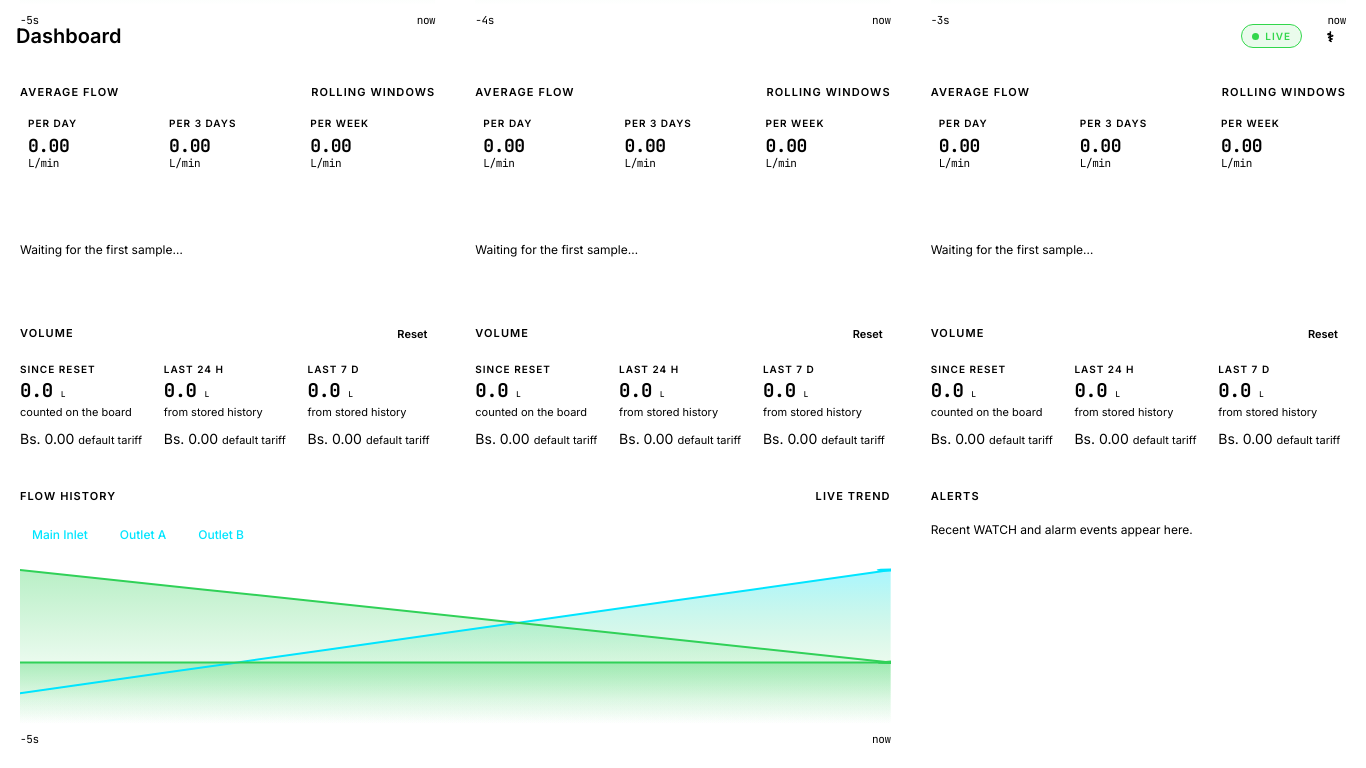
Test: Main_Chart channel selection is an exhaustive 8-subset multi-select (Requirement 3.9) › the empty subset draws no series and shows the "no channels" placeholder
(page scrolled)
What coordinates should you click on to do the following:
click the button with class "chip" showing "Main Inlet"
I would click on:
 (60, 534)
Its box is [20, 521, 100, 548].
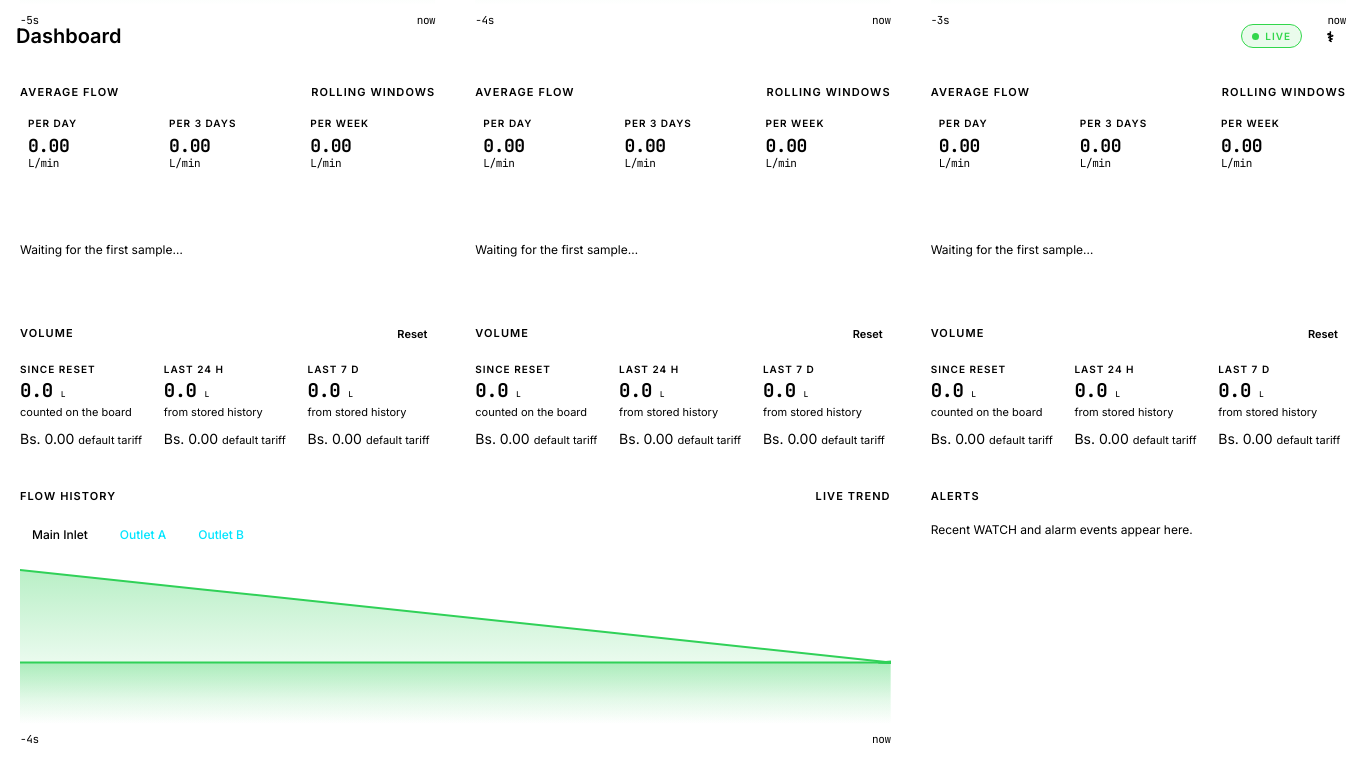
What coordinates should you click on to do the following:
click the button with class "chip" showing "Outlet A"
I would click on:
 (143, 534)
Its box is [108, 521, 178, 548].
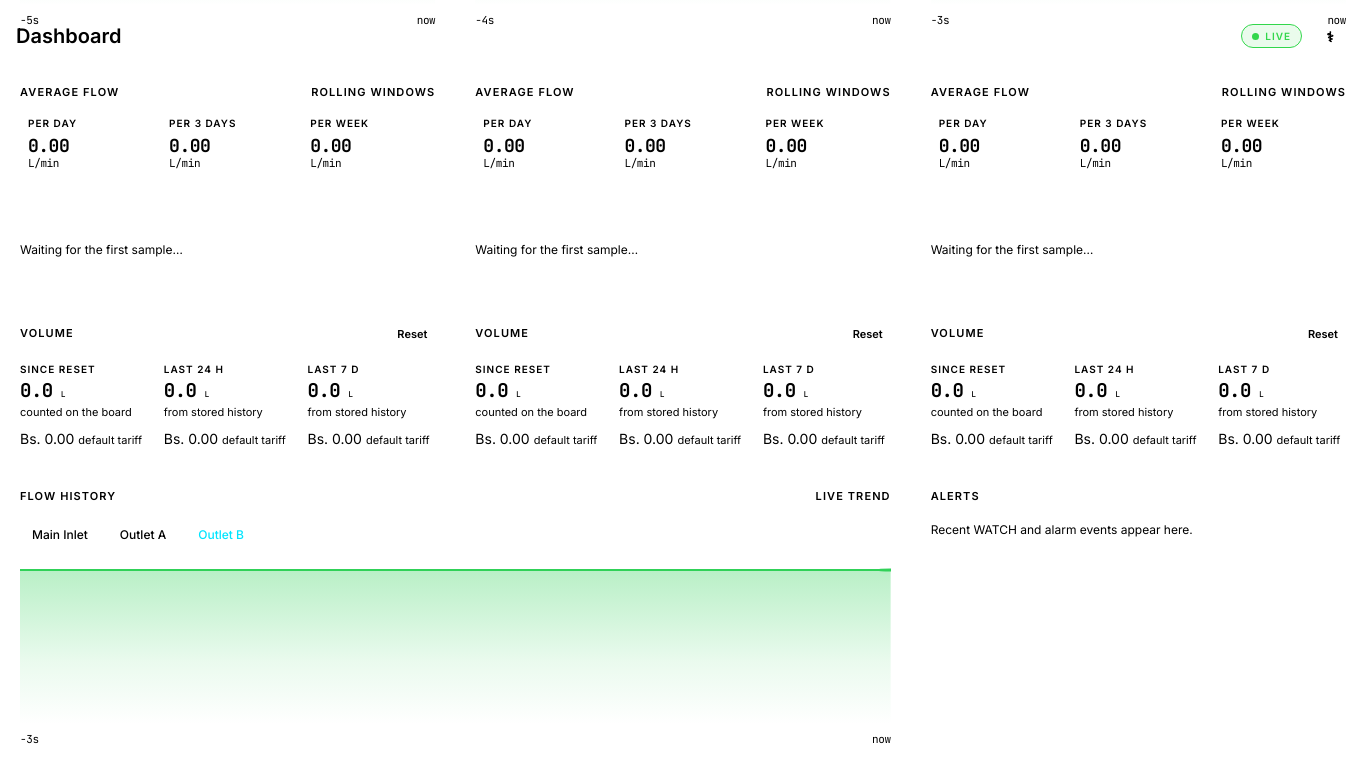
What coordinates should you click on to do the following:
click the button with class "chip" showing "Outlet B"
I would click on:
 (221, 534)
Its box is [186, 521, 256, 548].
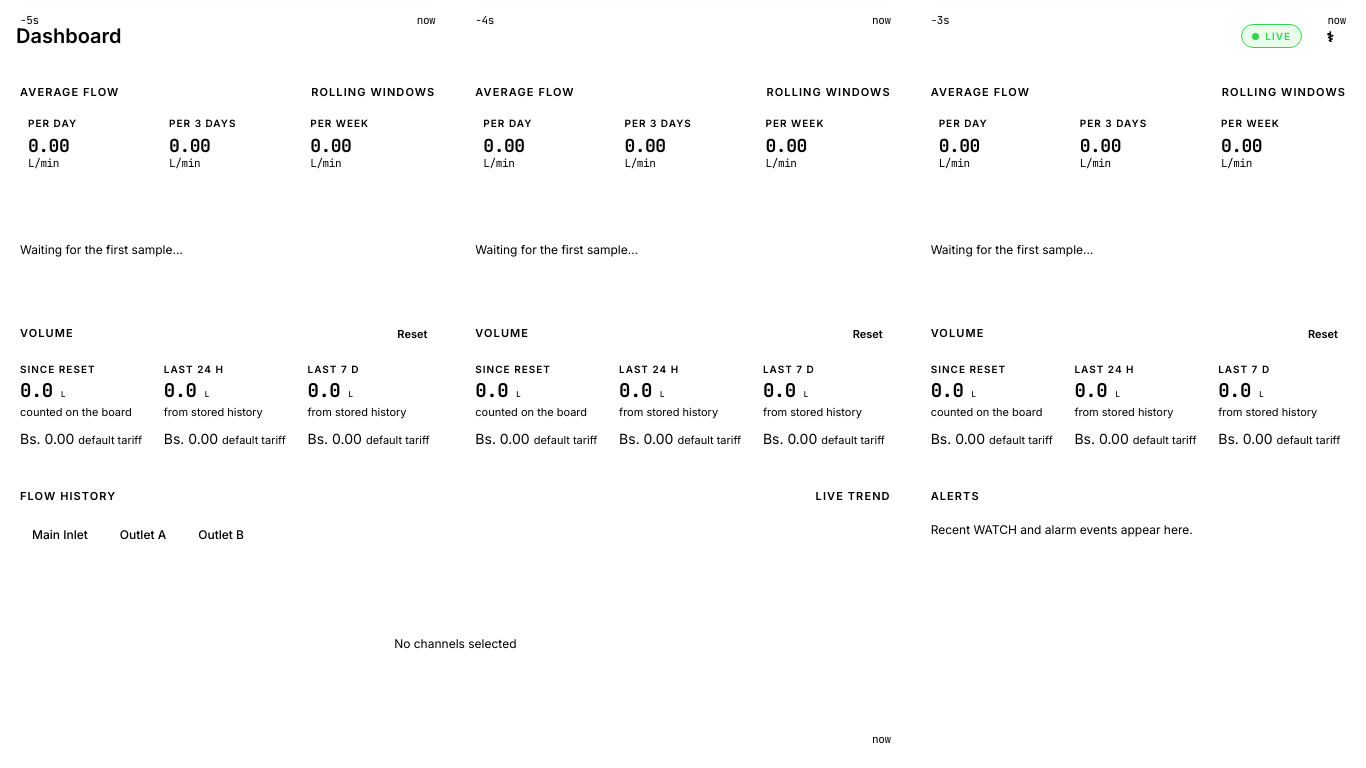
Result: the element named "Channels plotted" shows "No channels selected" at [394, 636, 516, 651]
